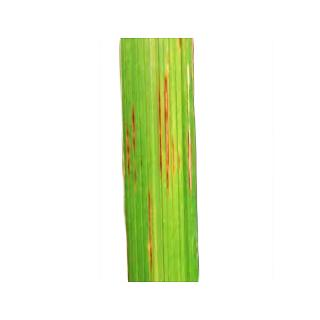Bercak-Cokelat-Sempit: (153, 68, 179, 190), (117, 110, 142, 184), (145, 194, 160, 277), (184, 111, 193, 193), (173, 41, 197, 53)
